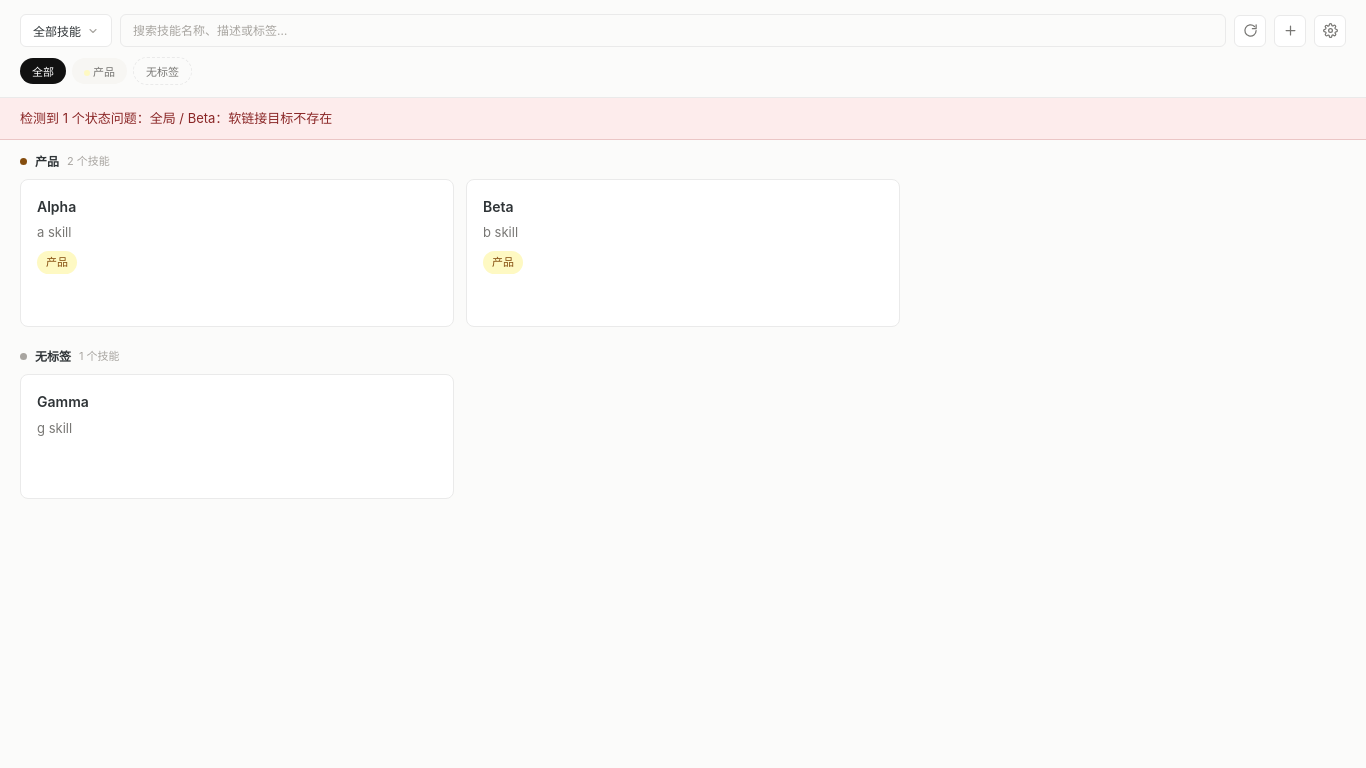
Test: P0-2 详情抽屉收回：按报告提示 › 成功收回显示成功提示
Click the button with class "skill-card" showing "Alpha a skill 产品" at (57, 206), box [20,179,454,327]
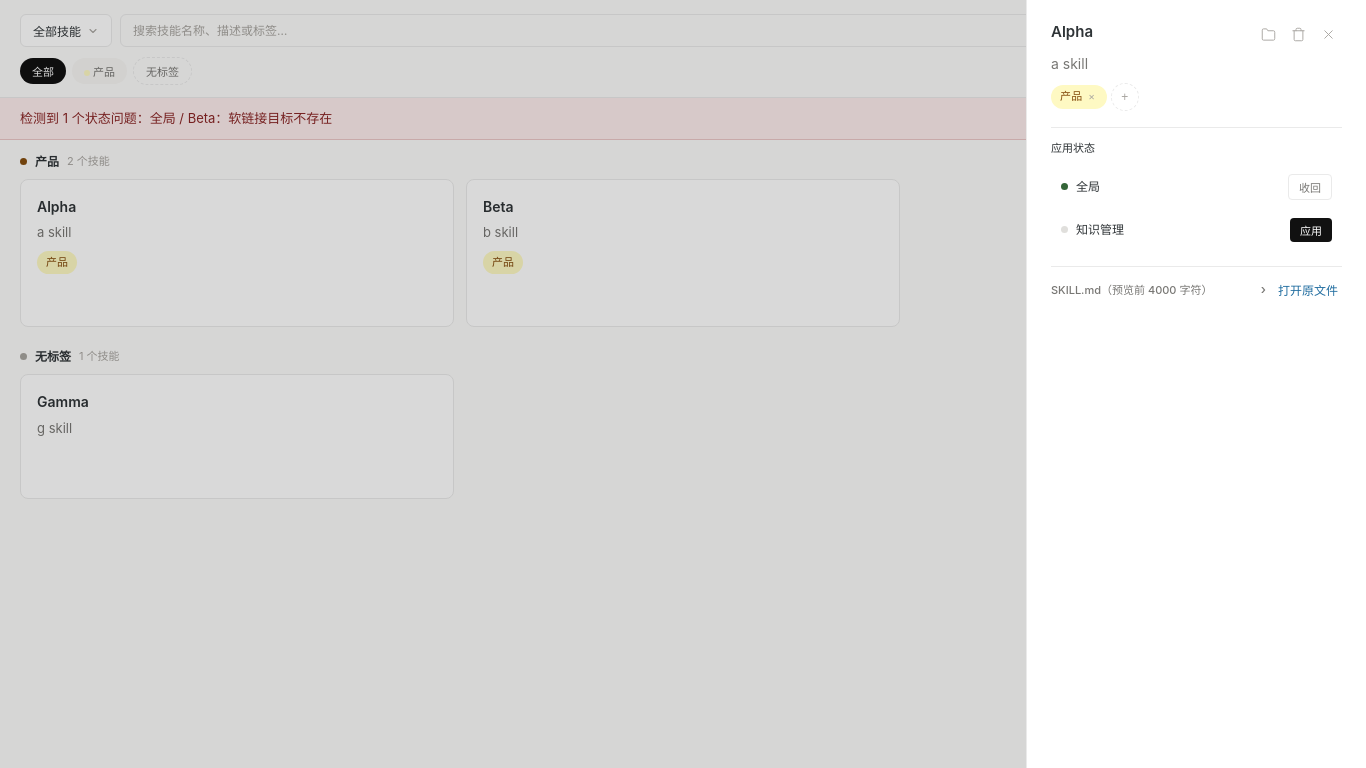
Expected: the dialog with class "drawer-panel" is shown, [1026,0,1365,767]
Click the button "收回" at (1310, 187), box [1288,174,1332,200]
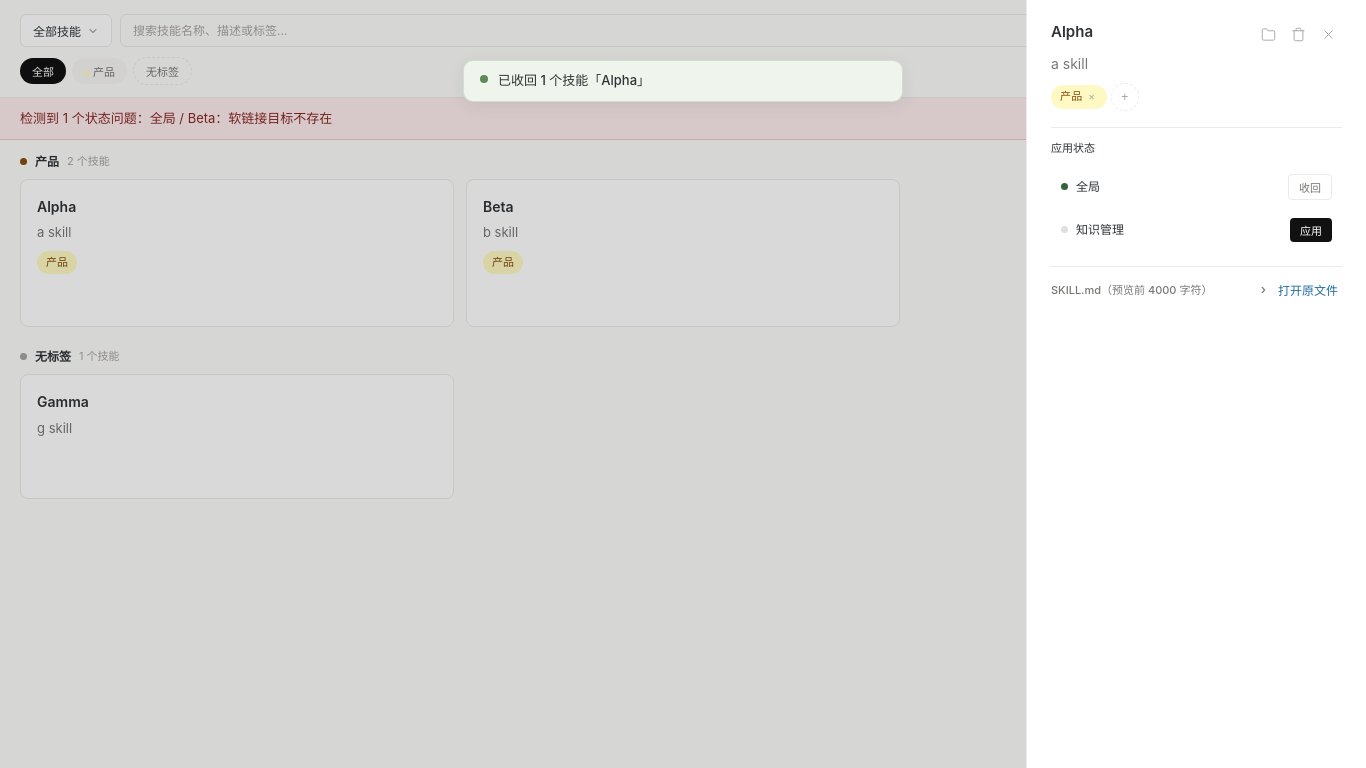
Expected: the message with class "toast" shows "已收回", [498,72,650,88]
